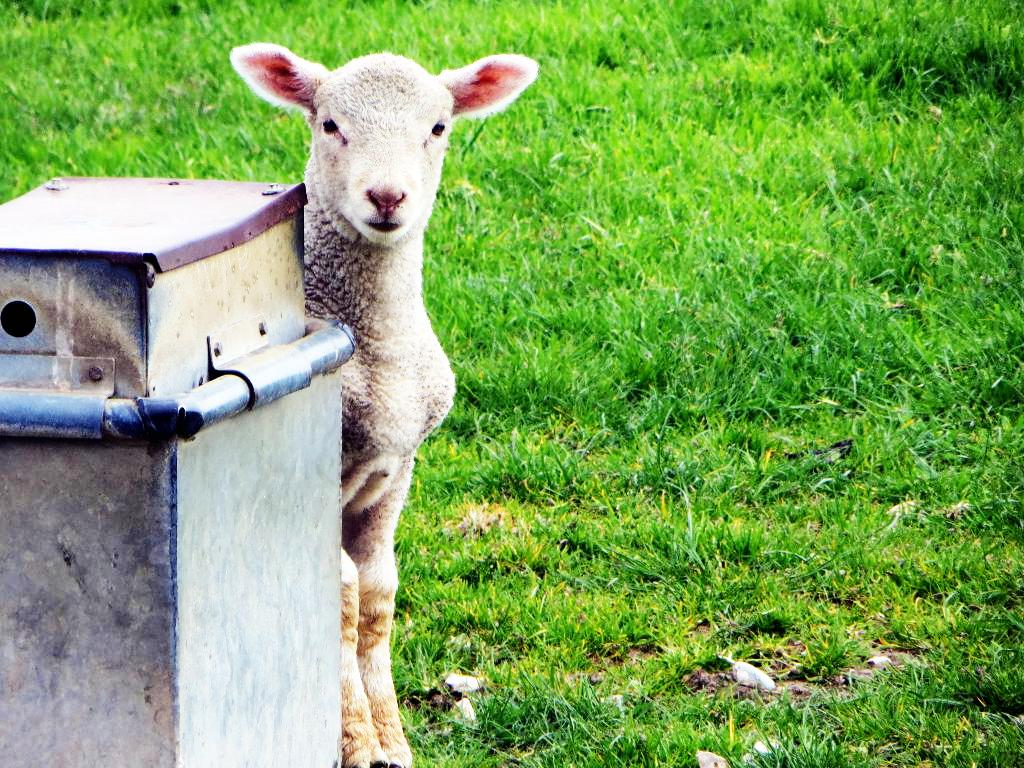Sheep: (228, 39, 540, 768)
